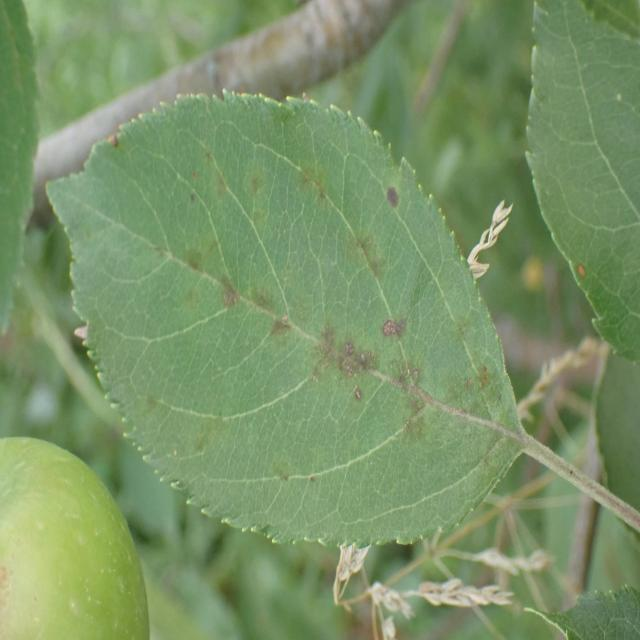scab: (95, 95, 527, 552)
